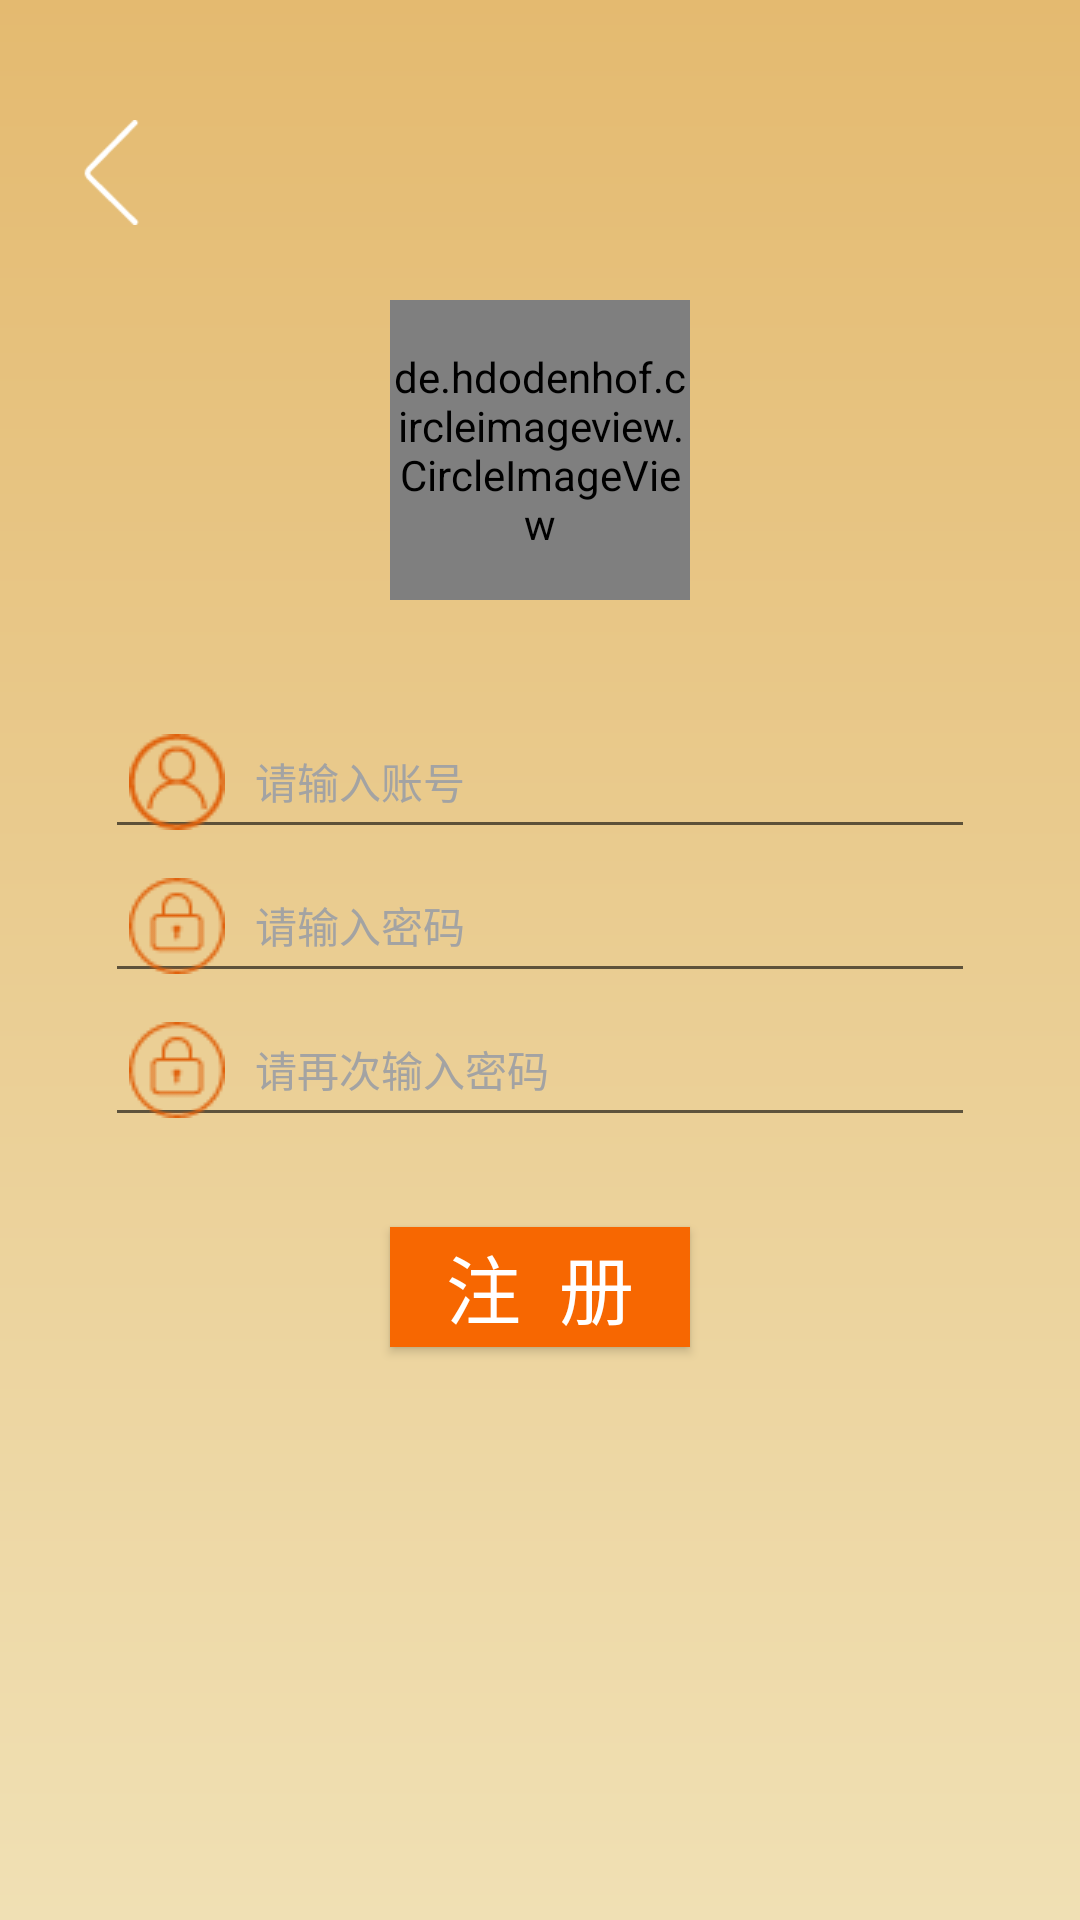

Where icons sit on this 1080px×1920px app screen, as {"x1": x1, "y1": y1, "x2": x2, "y2": y2}:
back: {"x1": 84, "y1": 120, "x2": 139, "y2": 225}
